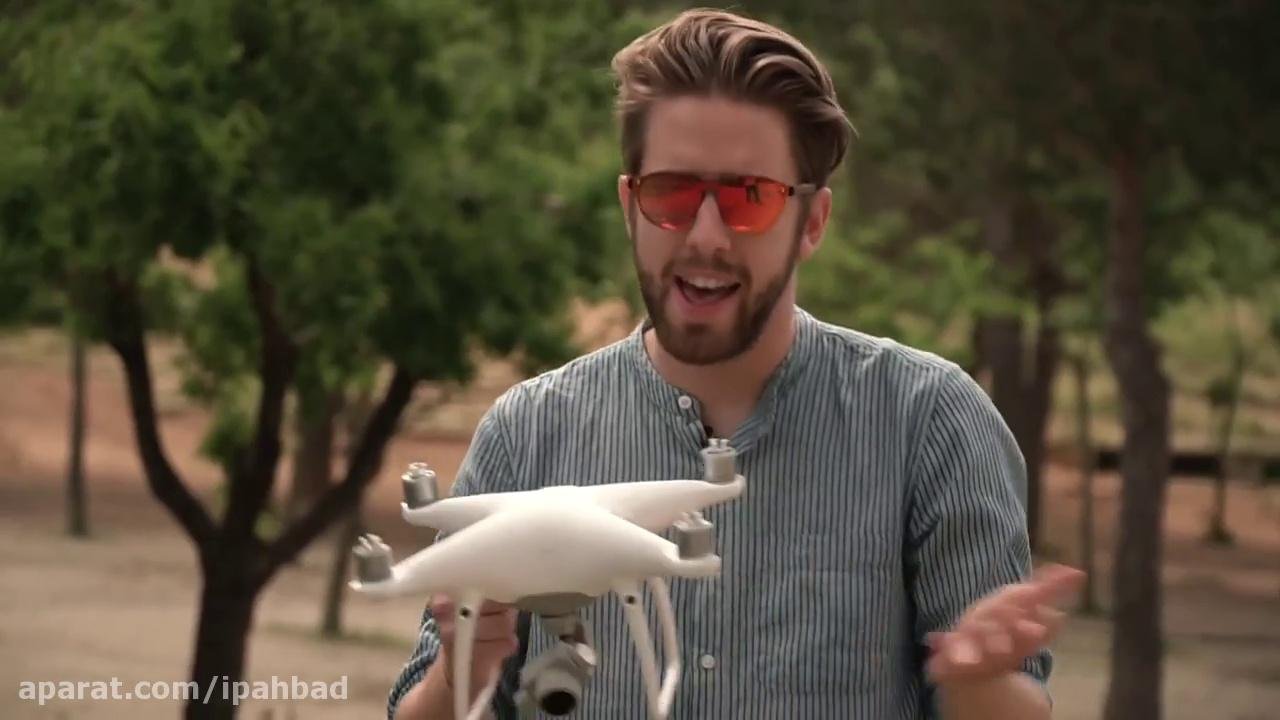drone: (346, 429, 750, 719)
